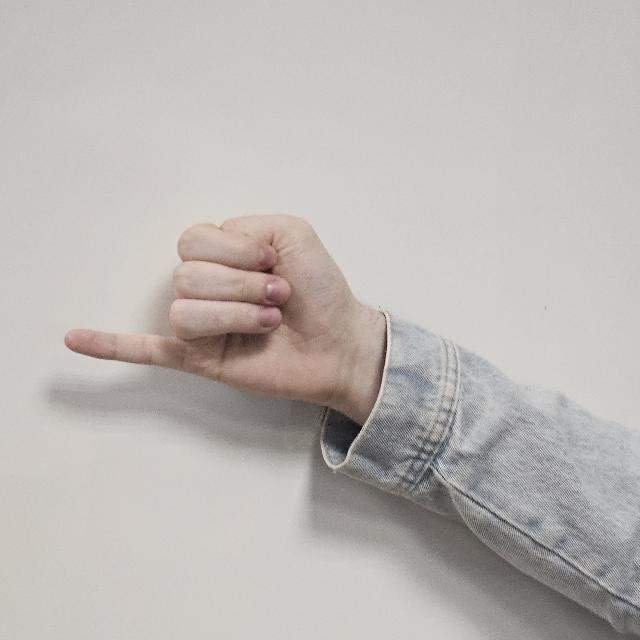Esquerda: (66, 185, 356, 437)
